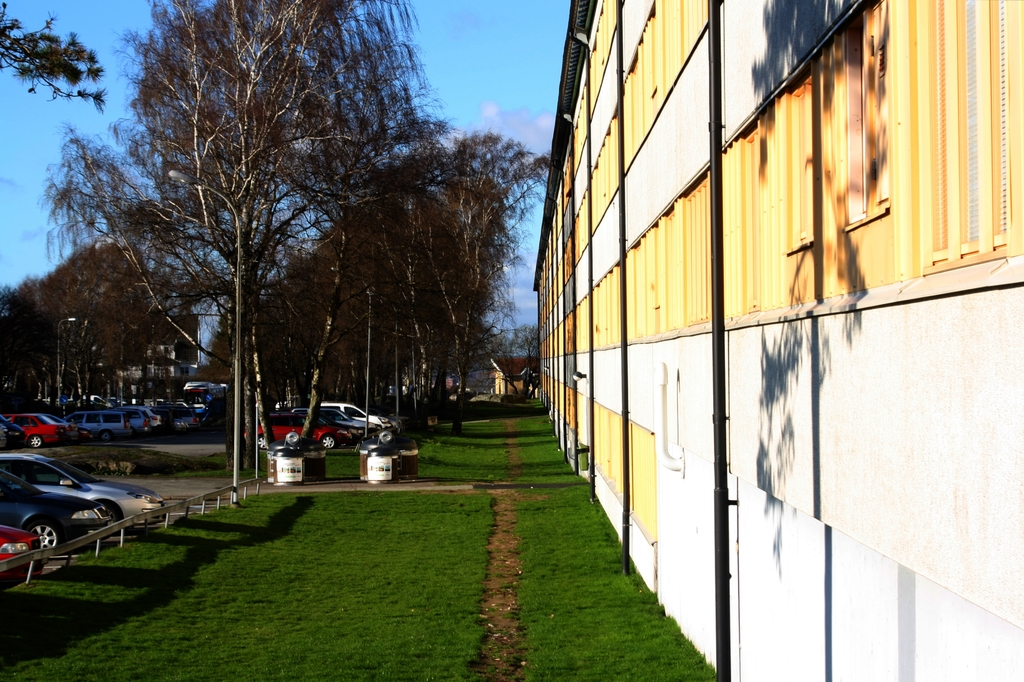mobil: (1, 441, 157, 532), (246, 412, 359, 449)
